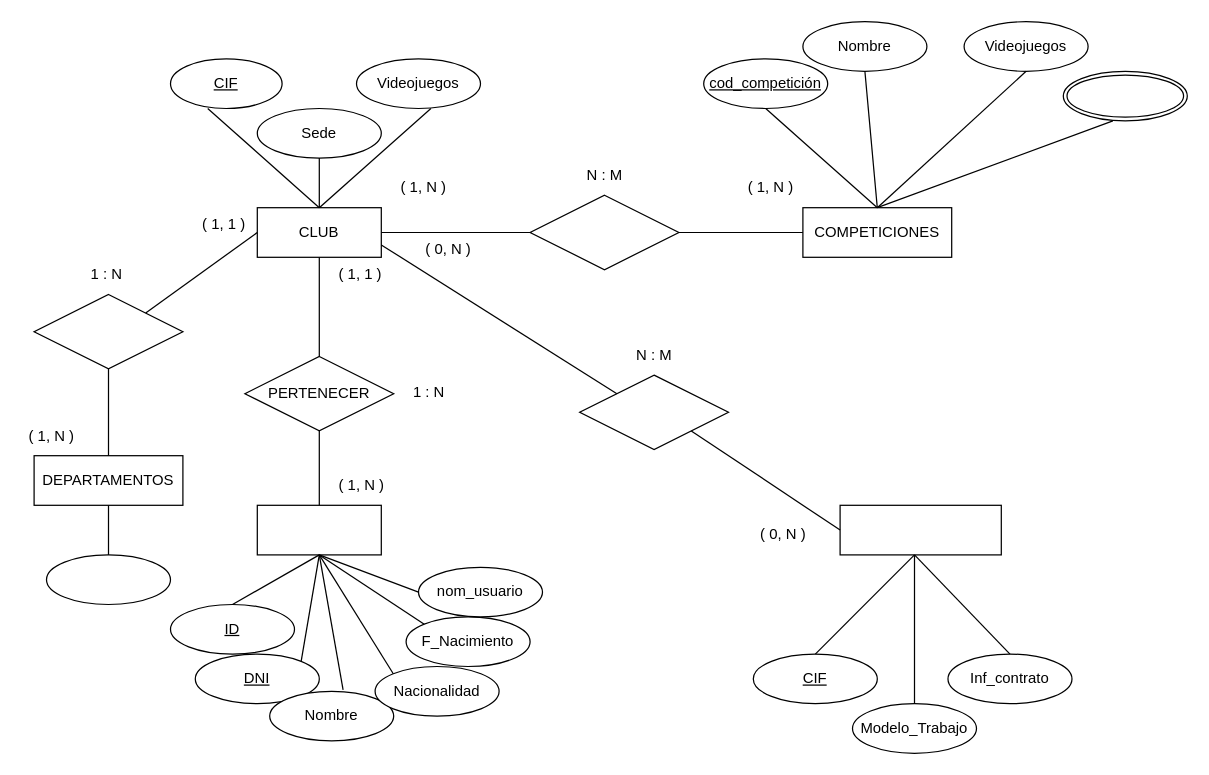
This 1209x775 diagram has some shape labels left out. Here are the shapes that lost their labels. From the top down, the centre of each, then its label:
At [1124,95]: "Fechas".
At [604,232]: "COMPETIR".
At [108,331]: "TIENE".
At [653,412]: "PATROCINAR".
At [318,529]: "JUGADORES".
At [920,529]: "PATROCINADORES".
At [107,579]: "cod_departamento".
